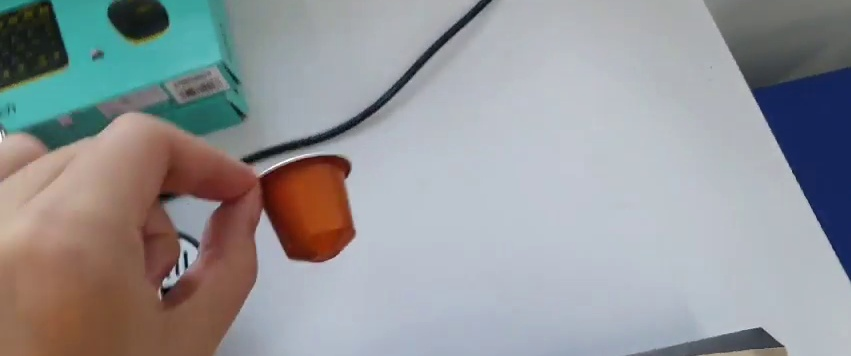capsule_5: (242, 153, 360, 266)
